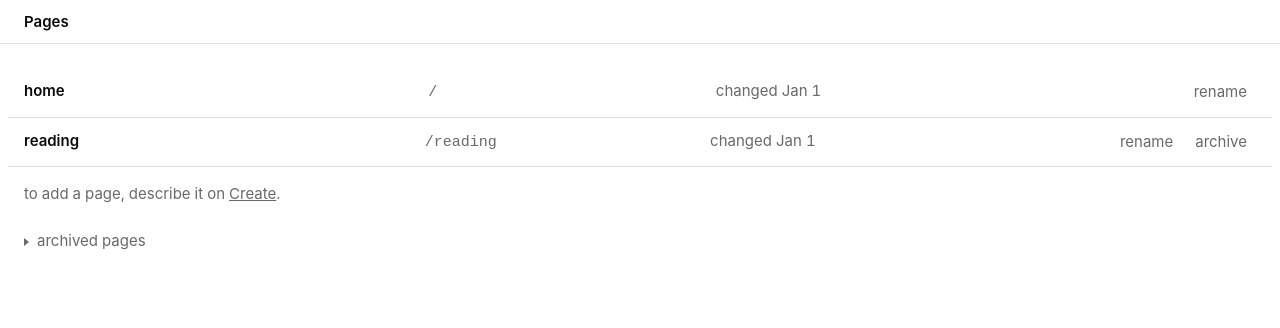
archived pages load only when opened and restore from there
Expected: the text "old notes" is not shown
Click the heading "archived pages".
click(91, 241)  # box [37, 231, 146, 250]
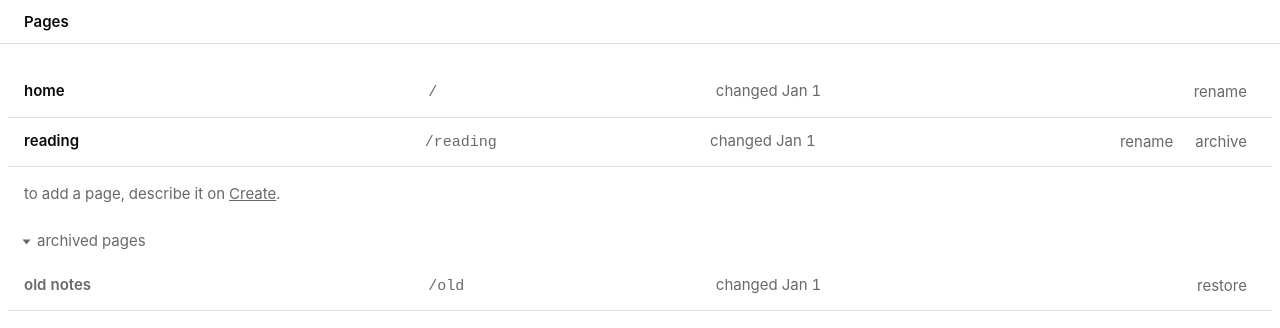
Result: the link "old notes /old changed Jan 1" is shown at [24, 274, 821, 294]
Click the button with aria-label "restore old notes".
click(1222, 286)  # box [1188, 270, 1256, 302]
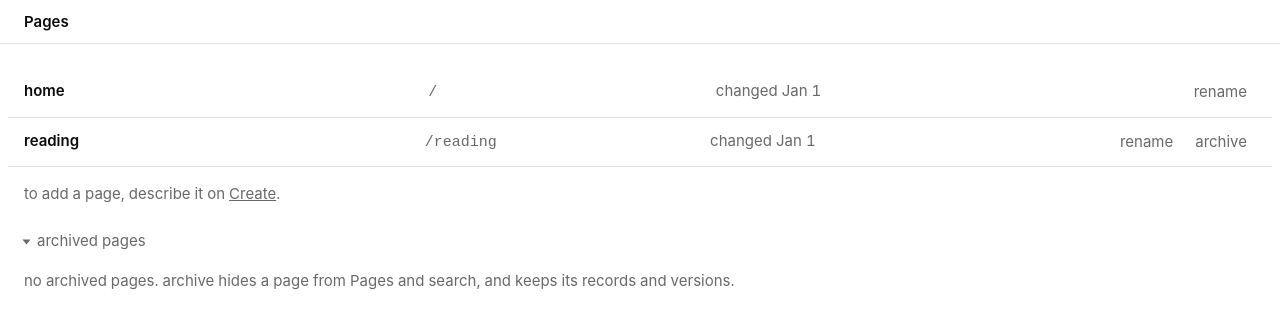
Result: the link "old notes" is gone
